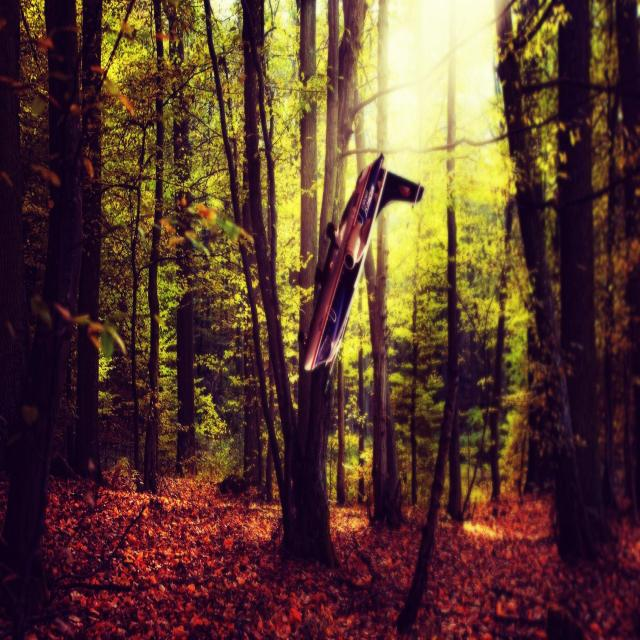airplane: (300, 151, 424, 373)
